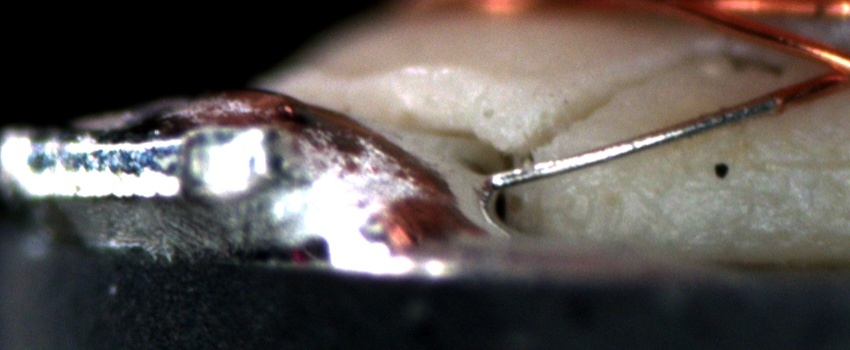CL: (795, 42, 850, 97)
DL: (763, 136, 850, 182)
TS: (487, 93, 779, 189)
